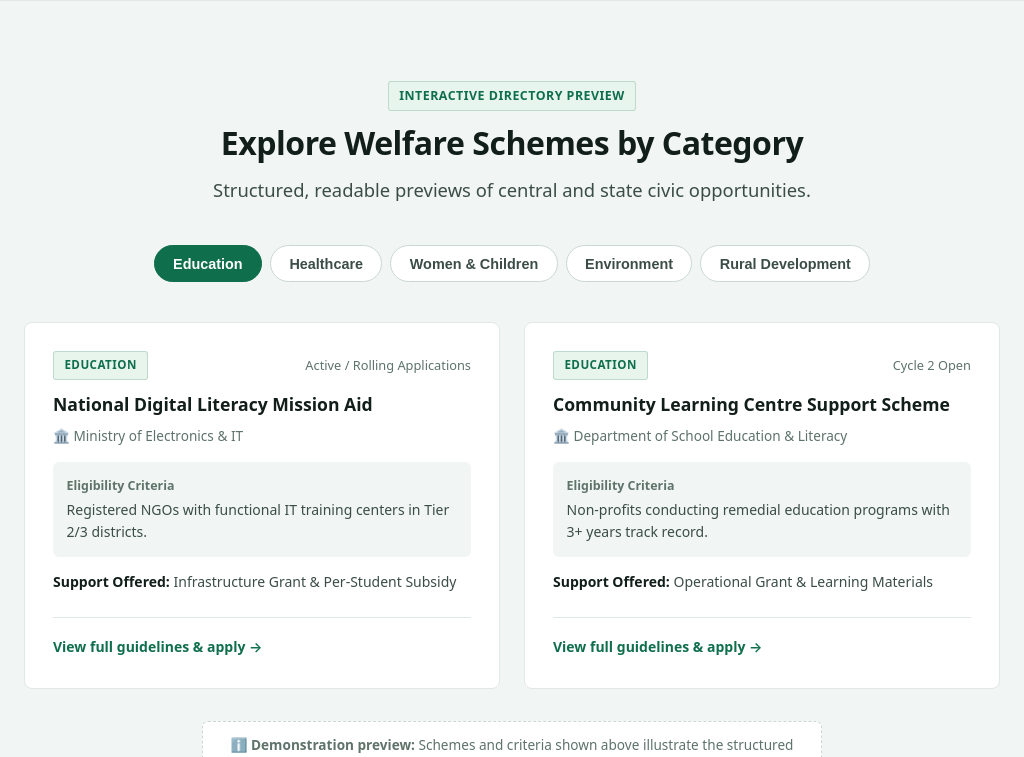
Test case: Landing Subcomponents › SchemesPreview › switches categories when tab is clicked
The width and height of the screenshot is (1024, 757).
Expected: the heading "National Digital Literacy Mission Aid" is shown, [53,392,373,416]
Click the tab "Healthcare": (326, 264) [270,245,382,282]
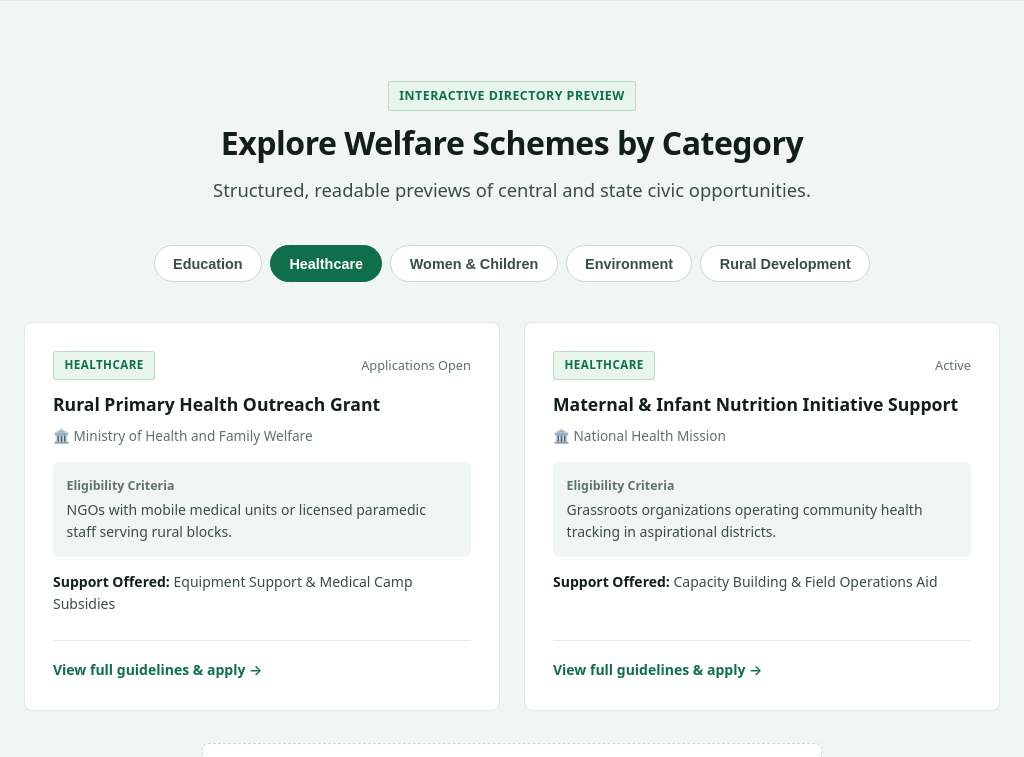
Now the heading "Rural Primary Health Outreach Grant" is shown, box [53,392,380,416]
Click the tab "Environment": (629, 264) [566,245,692,282]
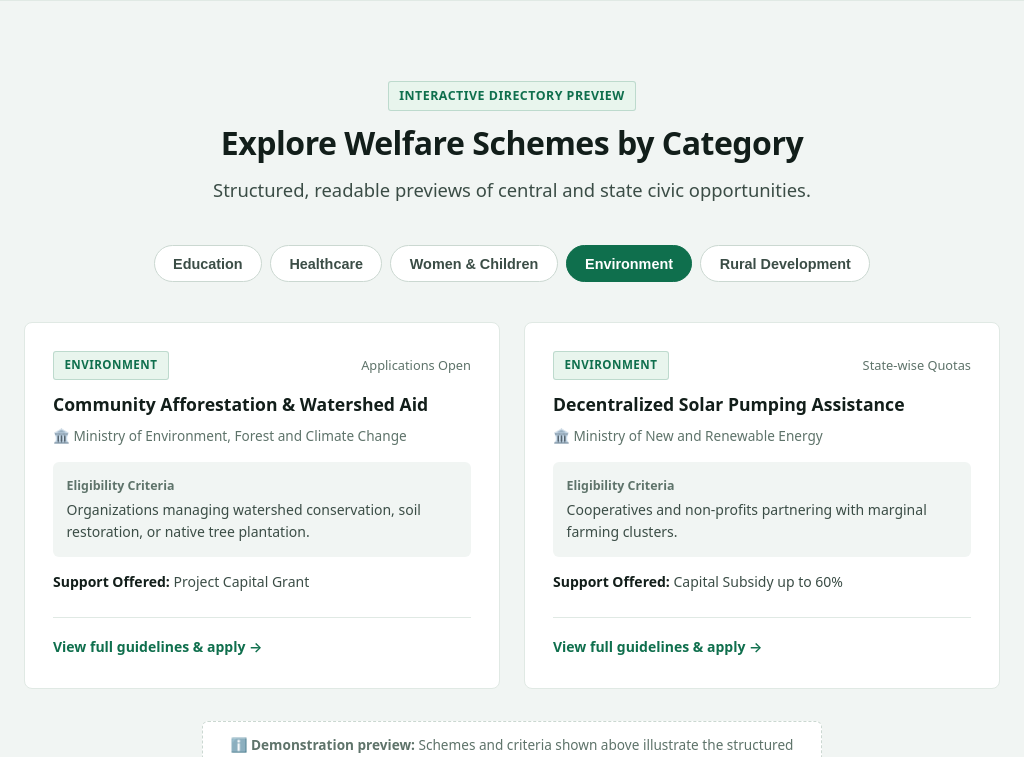
Now the heading "Community Afforestation & Watershed Aid" is shown, box [53,392,471,416]
